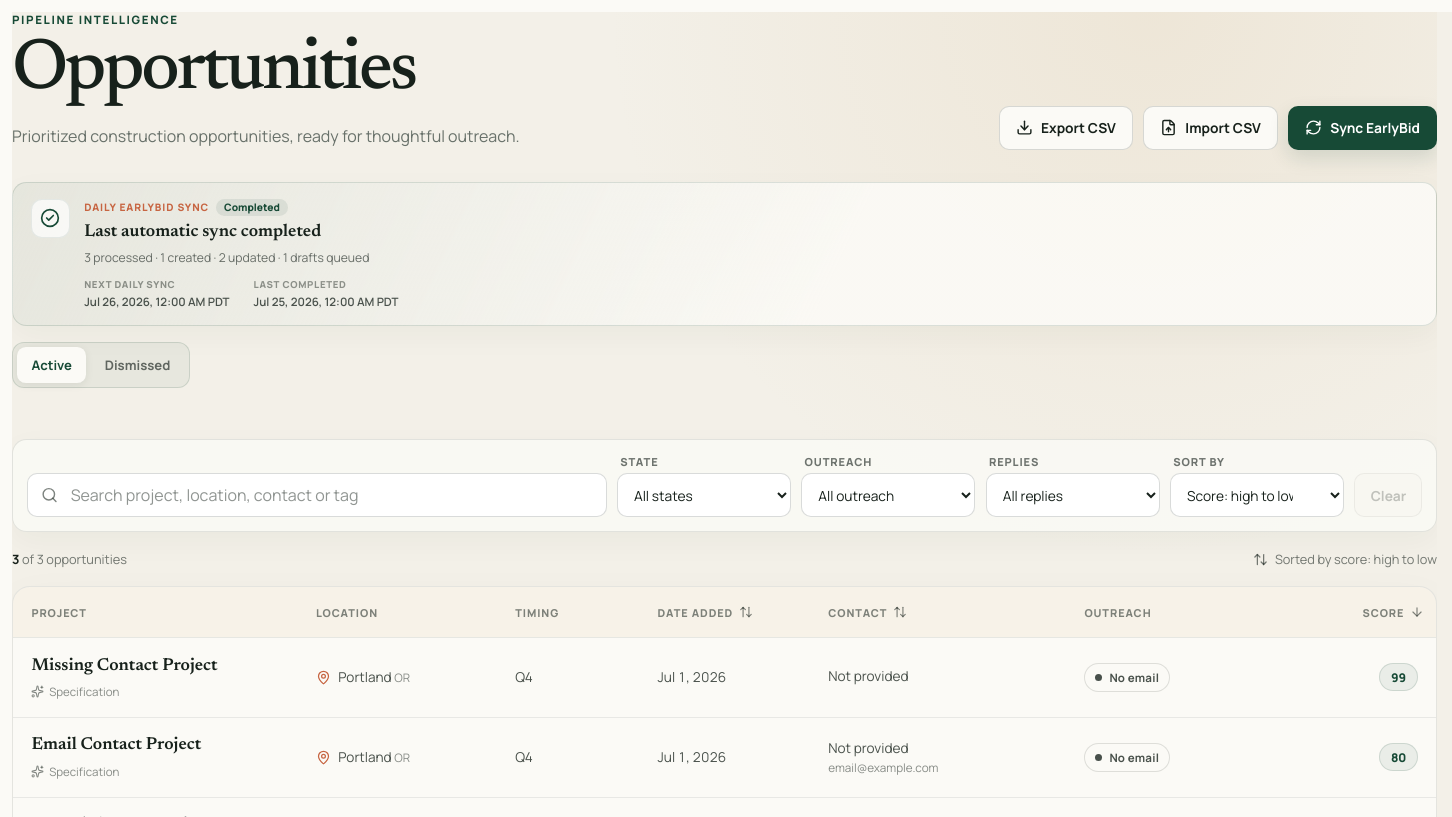
Test: Opportunities list › sorts from the contact and score column headers and clears back to score order
Expected: the dropdown labelled "Sort by" shows "Score: high to low", x1=1170 y1=473 x2=1344 y2=517
Click the button with aria-label "Sort contacts with provided first".
click(938, 612)  # box x1=810 y1=587 x2=1066 y2=637
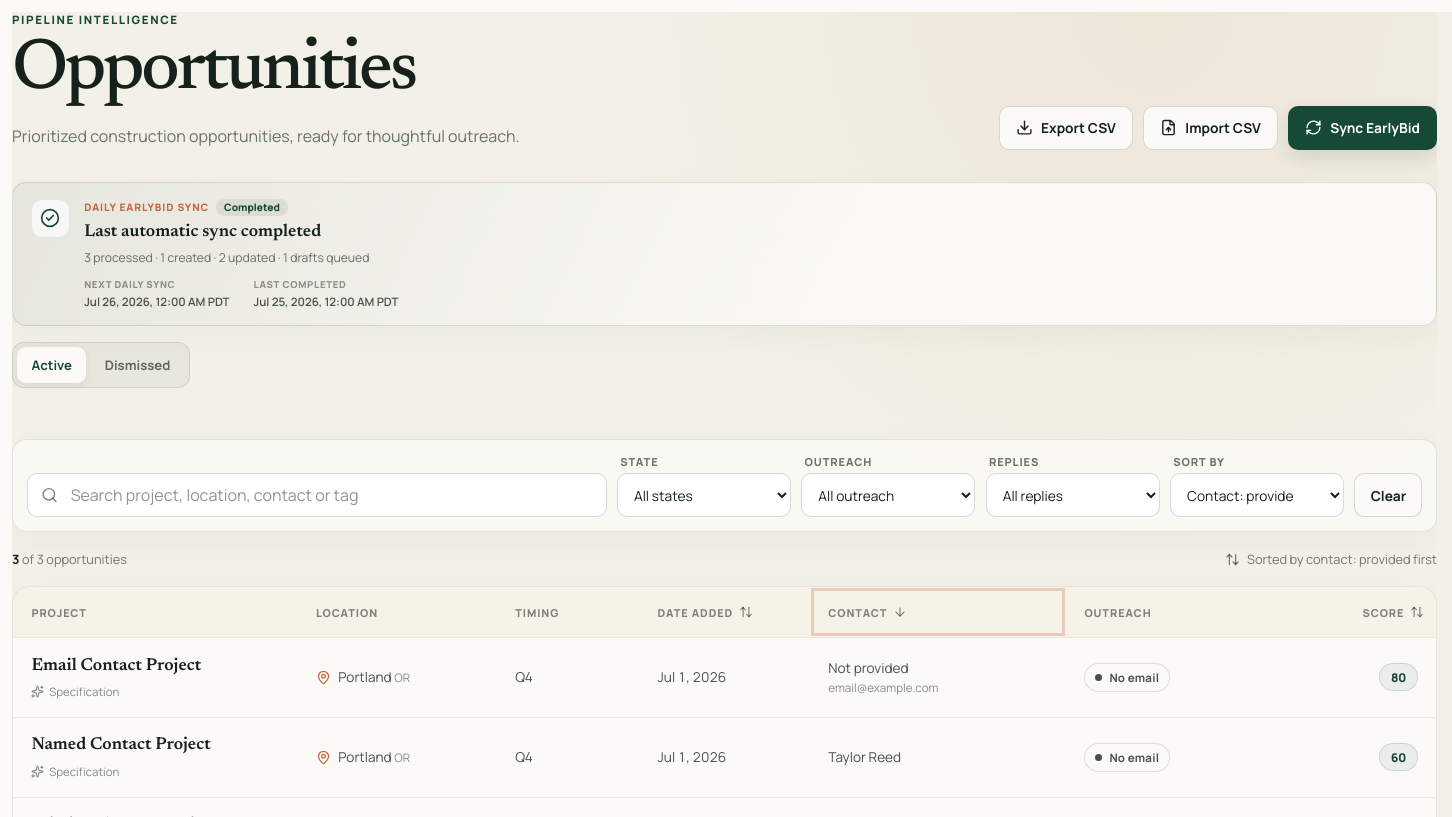
Expected: the text "Sorted by contact: provided first" is shown, x1=1247 y1=550 x2=1437 y2=568
Click the button with aria-label "Sort contacts with missing first".
click(938, 612)  # box x1=810 y1=587 x2=1066 y2=637
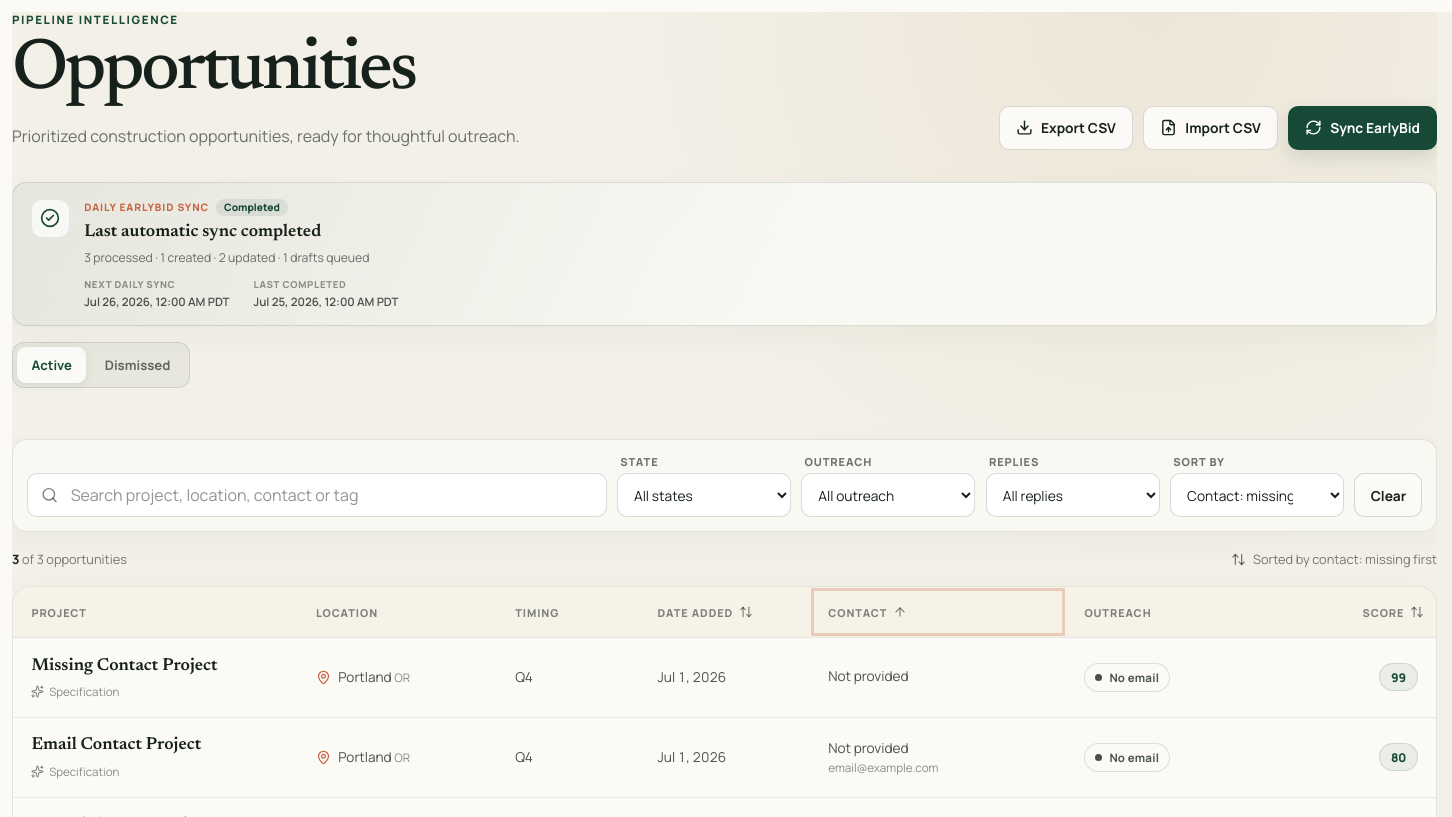
Expected: the text "Sorted by contact: missing first" is shown, x1=1253 y1=550 x2=1437 y2=568
Click the button with aria-label "Sort score high to low".
click(1379, 612)  # box x1=1322 y1=587 x2=1436 y2=637
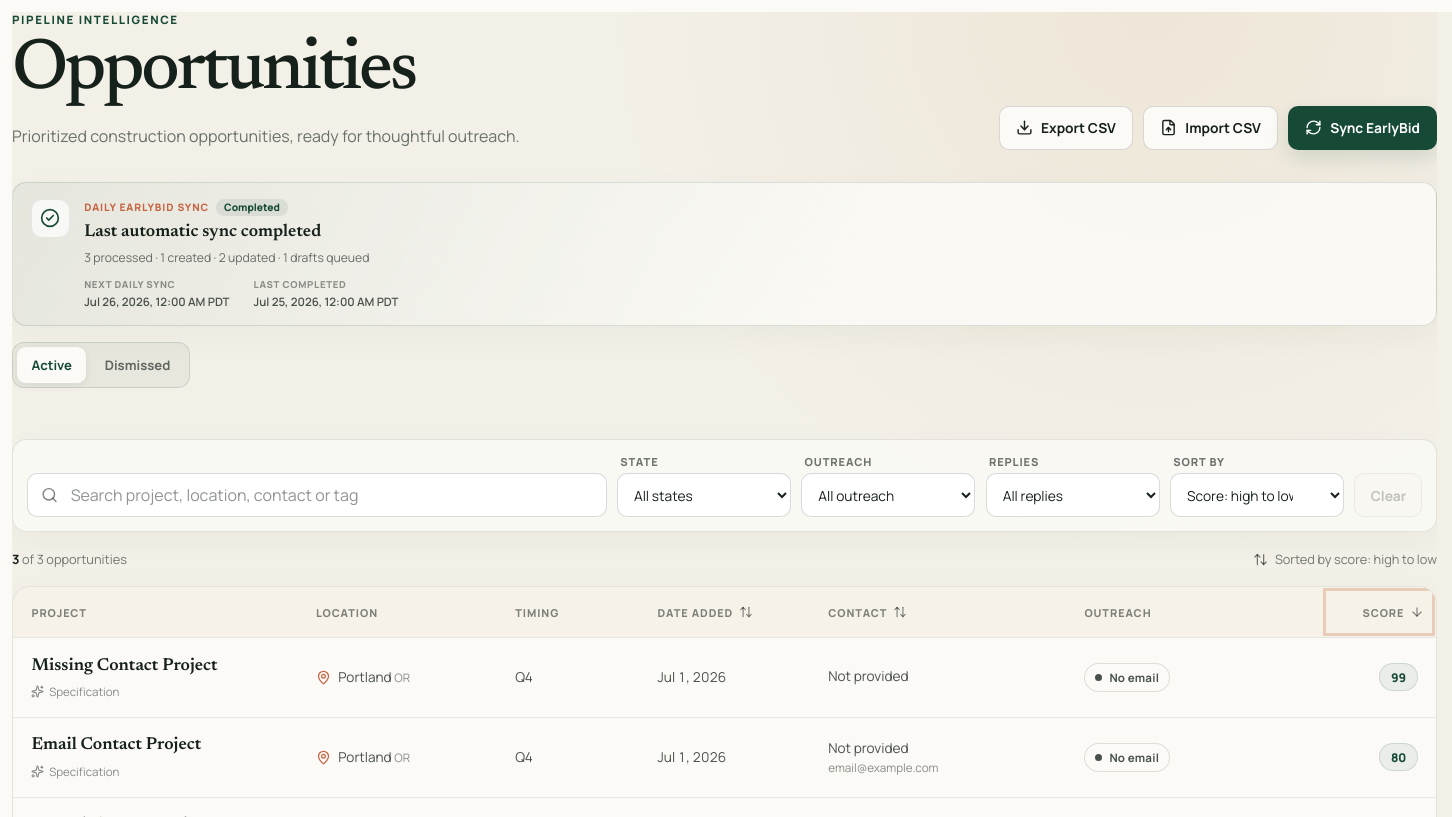
Click the button with aria-label "Sort score low to high".
click(1379, 612)  # box x1=1322 y1=587 x2=1436 y2=637
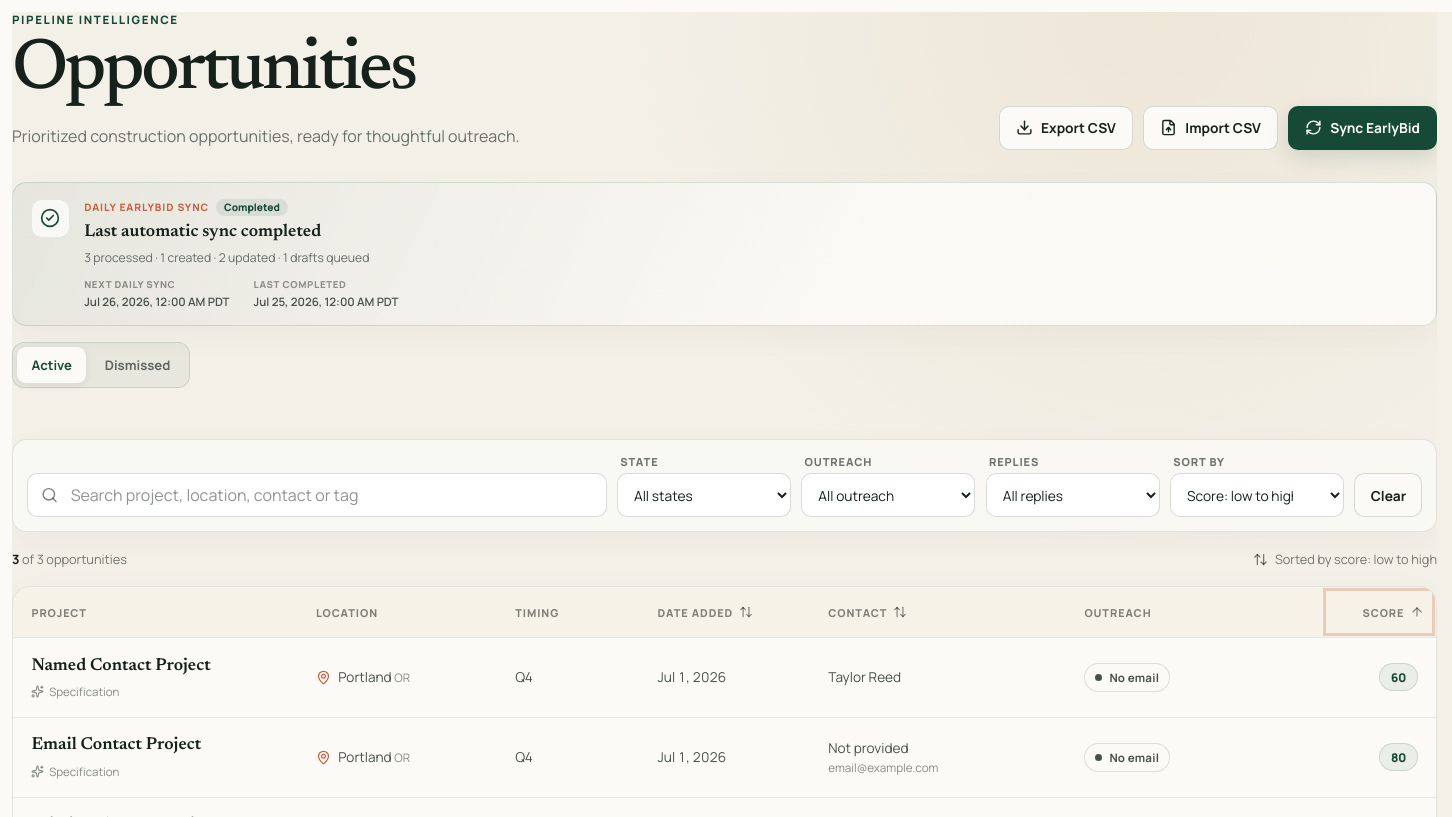
Click the button "Clear".
click(1388, 495)  # box x1=1354 y1=473 x2=1422 y2=517
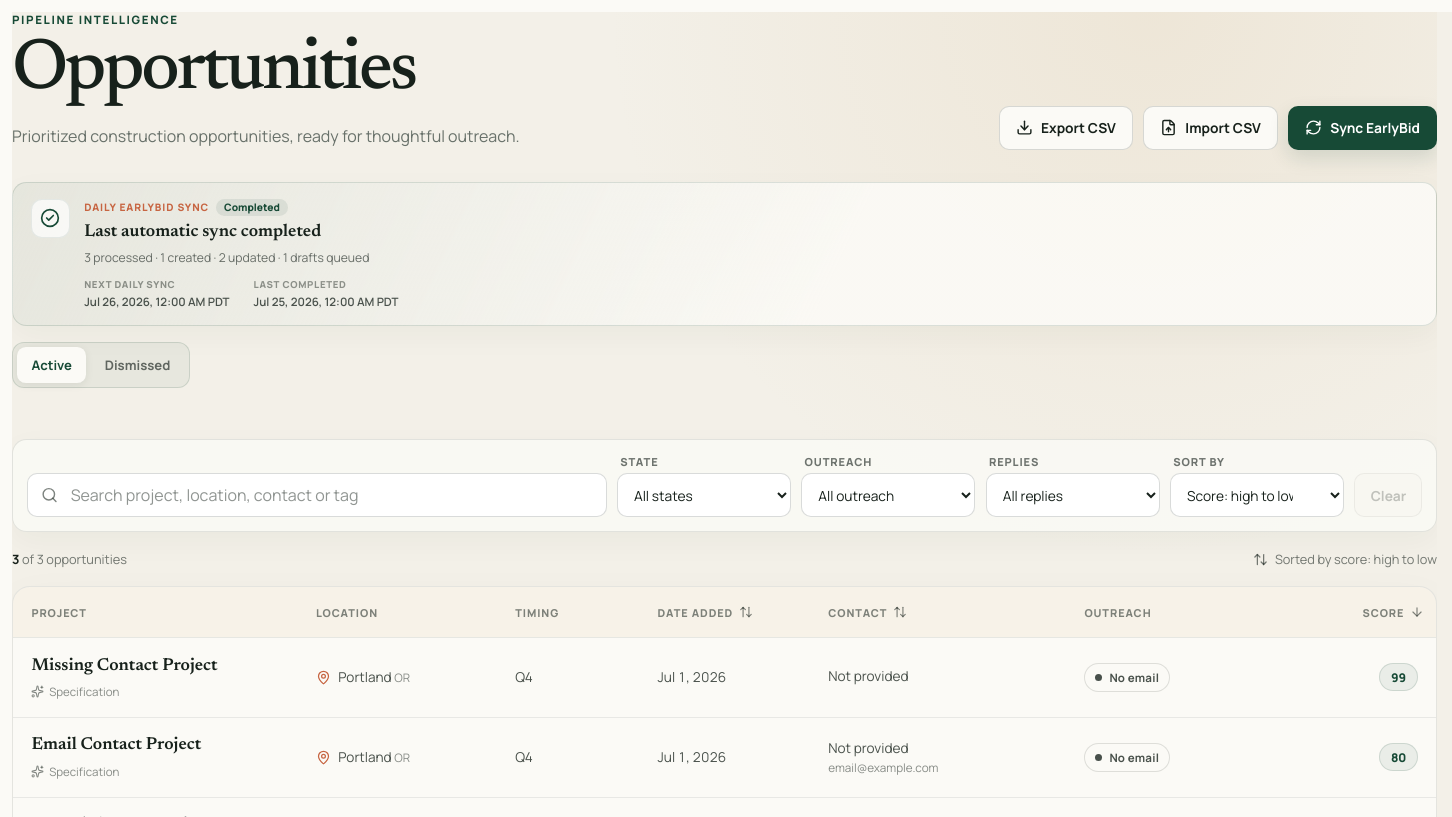
Expected: the text "Sorted by score: high to low" is shown, x1=1275 y1=550 x2=1437 y2=568
